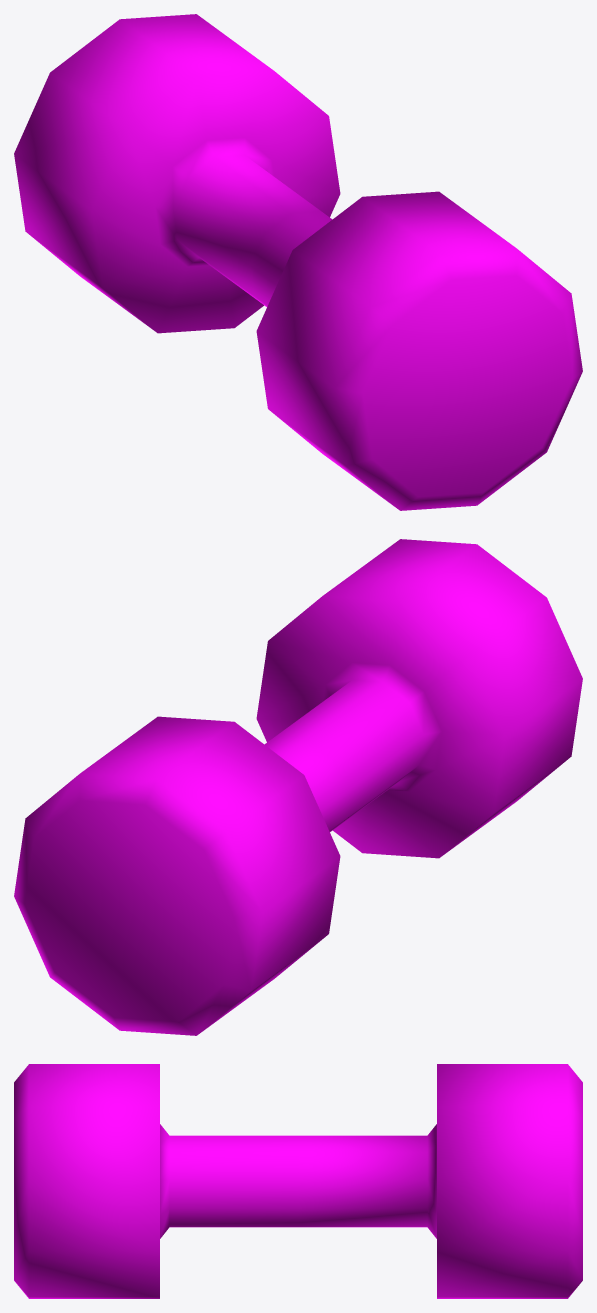
Rendered from ColorfulDumbbells.004.fbx.
3 renders of one model, top to bottom at view 1: azimuth 30°, elevation 25°; view 2: azimuth 150°, elevation 25°; view 3: azimuth 270°, elevation 25°, orthographic. The views are drawn at different scales.
Parts seen in each view (by area): view 1: ColurfulDumbbells.005; view 2: ColurfulDumbbells.005; view 3: ColurfulDumbbells.005.
Boxes of the visible parts, x1,y1,x2,y2 form: ColurfulDumbbells.005: (14, 14, 582, 510); ColurfulDumbbells.005: (14, 539, 582, 1035); ColurfulDumbbells.005: (14, 1064, 582, 1298).
Bounding box in the file's own units: 4.54 × 4.56 × 10.71.
